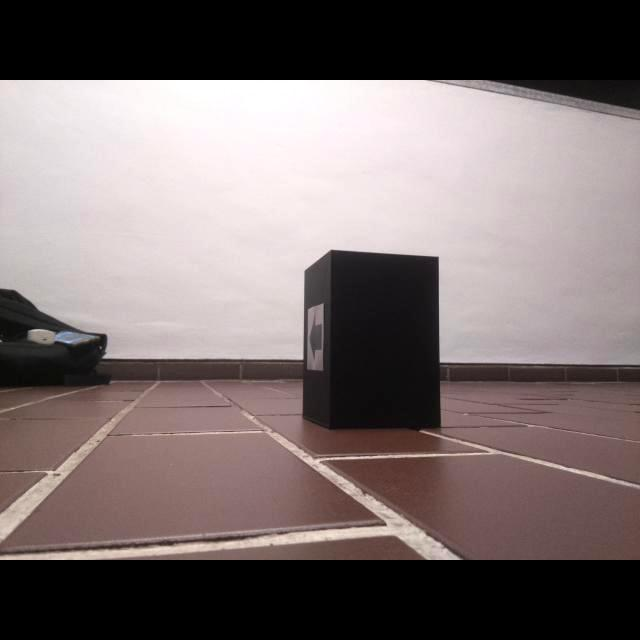LEFT: (308, 311, 322, 364)
